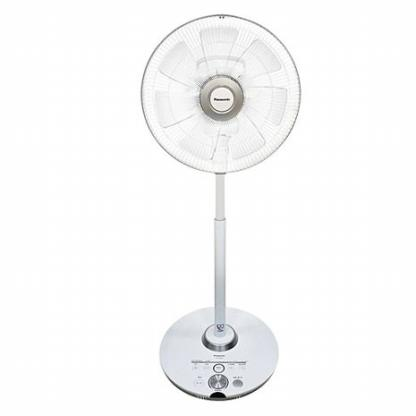fan: (137, 9, 313, 404)
